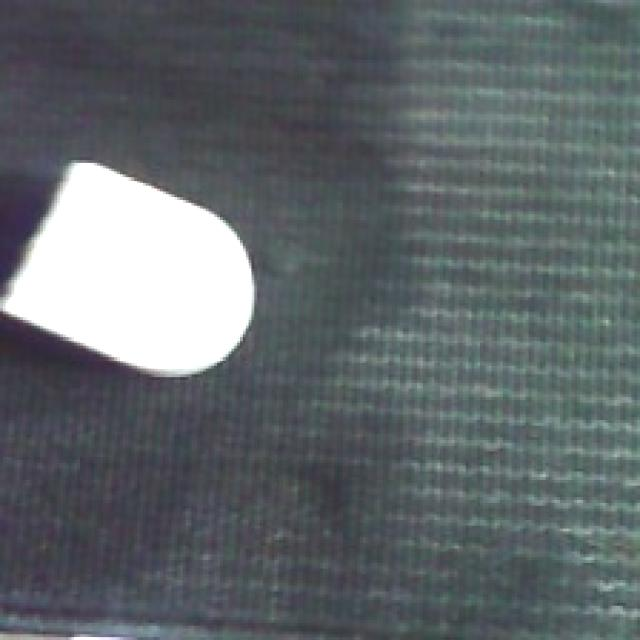defected: (3, 154, 260, 386)
